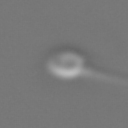normal: (85, 52, 128, 95)
